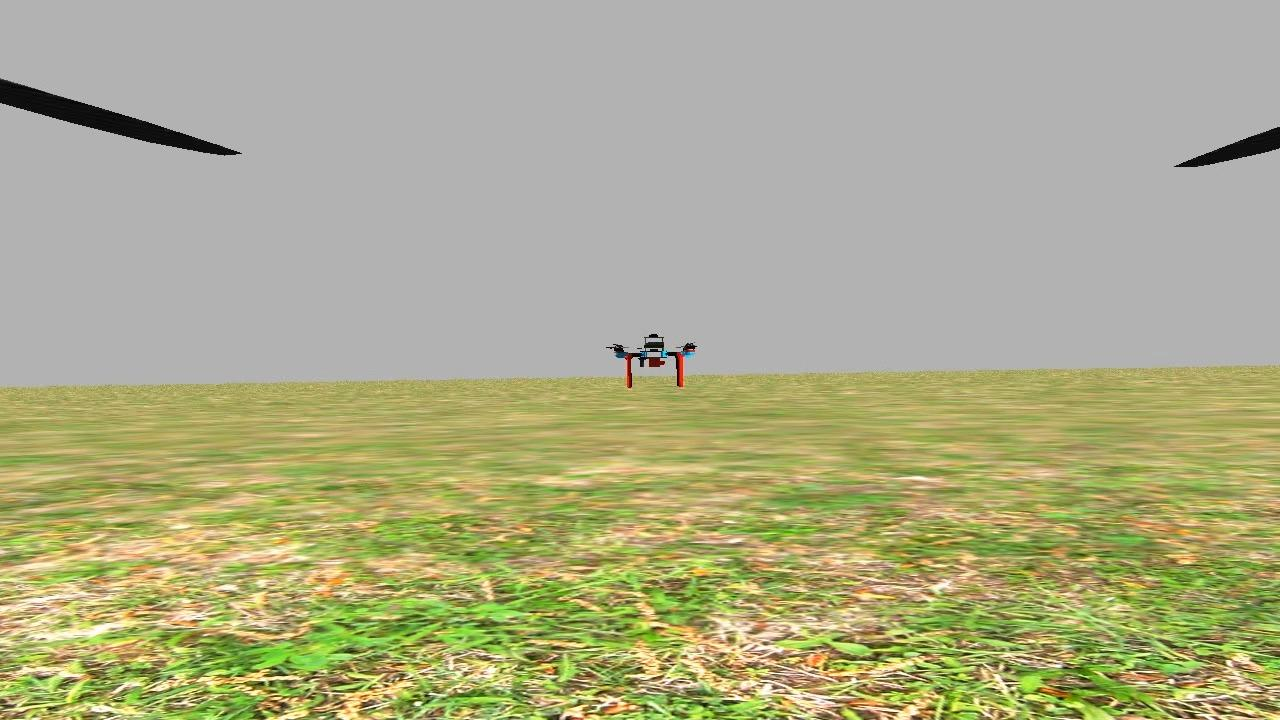UAV: (600, 328, 706, 394)
